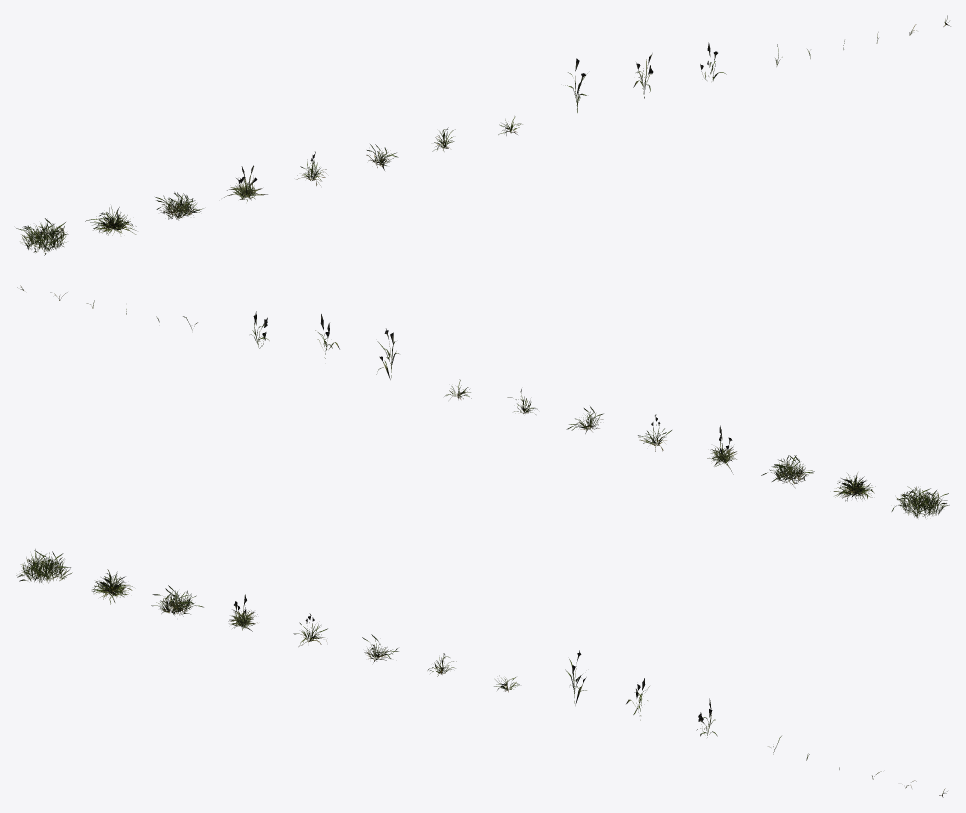
3 renders of one model, top to bottom at view 1: azimuth 30°, elevation 25°; view 2: azimuth 150°, elevation 25°; view 3: azimuth 330°, elevation 25°, orthographic.
Parts seen in each view (by area): view 1: grass_medium_01_large_a_LOD0, grass_medium_01_large_c_LOD0, grass_medium_01_large_b_LOD0; view 2: grass_medium_01_large_a_LOD0, grass_medium_01_large_c_LOD0, grass_medium_01_large_b_LOD0; view 3: grass_medium_01_large_a_LOD0, grass_medium_01_large_c_LOD0, grass_medium_01_large_b_LOD0.
Boxes of the visible parts, x1,y1,x2,y2 form: grass_medium_01_large_a_LOD0: (16, 218, 68, 255); grass_medium_01_large_c_LOD0: (155, 192, 203, 220); grass_medium_01_large_b_LOD0: (85, 206, 136, 235); grass_medium_01_large_a_LOD0: (891, 486, 949, 518); grass_medium_01_large_c_LOD0: (761, 455, 814, 488); grass_medium_01_large_b_LOD0: (833, 473, 875, 501); grass_medium_01_large_a_LOD0: (16, 549, 72, 583); grass_medium_01_large_c_LOD0: (151, 585, 203, 616); grass_medium_01_large_b_LOD0: (92, 569, 132, 604).
Size of the model in its own units: 5.6 by 0.3389 by 0.3266.
1 material, 1 textured.
